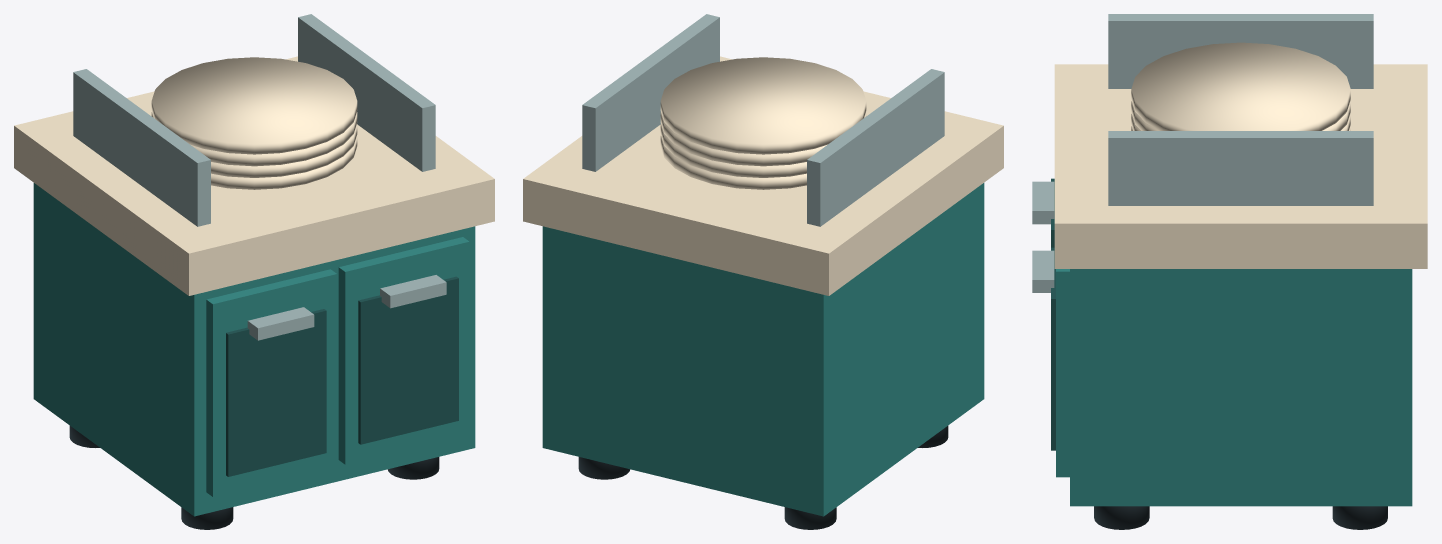
The picture shows the model from 3 angles, left to right: view 1: azimuth 30°, elevation 25°; view 2: azimuth 150°, elevation 25°; view 3: azimuth 270°, elevation 25°; orthographic projection. The views are drawn at different scales.
Visible parts, largest first — view 1: Powder coated carcase.010, Work surface.010, Porcelain dish stack.003, Recessed face.021, Recessed face.020, Inset cabinet door.021, Inset cabinet door.020, Dish rack end, Dish rack end.001, Porcelain dish stack.002, Porcelain dish stack.001, Porcelain dish stack (+4 smaller); view 2: Powder coated carcase.010, Work surface.010, Porcelain dish stack.003, Dish rack end, Dish rack end.001, Porcelain dish stack.002, Porcelain dish stack.001, Porcelain dish stack, Recessed leveling foot.041, Recessed leveling foot.043; view 3: Powder coated carcase.010, Work surface.010, Dish rack end.001, Porcelain dish stack.003, Dish rack end, Inset cabinet door.021, Recessed leveling foot.042, Recessed leveling foot.043, Brushed pull.020, Brushed pull.021, Recessed face.021, Porcelain dish stack.002.
Part boxes in pixels (x1,y1,x2,y2): Powder coated carcase.010: (33,183,475,516); Work surface.010: (14,56,494,295); Porcelain dish stack.003: (151,57,357,154); Recessed face.021: (358,276,458,444); Recessed face.020: (226,309,326,476); Inset cabinet door.021: (338,237,469,464); Inset cabinet door.020: (206,269,336,496); Dish rack end: (73,69,210,226); Dish rack end.001: (298,14,435,171); Porcelain dish stack.002: (151,112,357,166); Porcelain dish stack.001: (211,124,357,177); Porcelain dish stack: (211,136,357,189); Powder coated carcase.010: (542,183,984,516); Work surface.010: (523,56,1003,295); Porcelain dish stack.003: (660,57,866,154); Dish rack end: (807,69,944,226); Dish rack end.001: (582,14,719,171); Porcelain dish stack.002: (660,112,866,166); Porcelain dish stack.001: (660,124,806,177); Porcelain dish stack: (660,136,806,189); Recessed leveling foot.041: (784,507,836,529); Recessed leveling foot.043: (578,457,630,479); Powder coated carcase.010: (1070,269,1412,506); Work surface.010: (1054,64,1427,268); Dish rack end.001: (1108,131,1373,205); Porcelain dish stack.003: (1131,42,1350,130); Dish rack end: (1108,14,1373,88); Inset cabinet door.021: (1056,269,1069,477); Recessed leveling foot.042: (1094,506,1149,529); Recessed leveling foot.043: (1332,506,1387,529); Brushed pull.020: (1032,181,1054,224); Brushed pull.021: (1032,250,1054,292); Recessed face.021: (1051,247,1055,450); Porcelain dish stack.002: (1131,101,1350,130).
Bounding box in the file's own units: 0.98 × 1.11 × 1.03.
